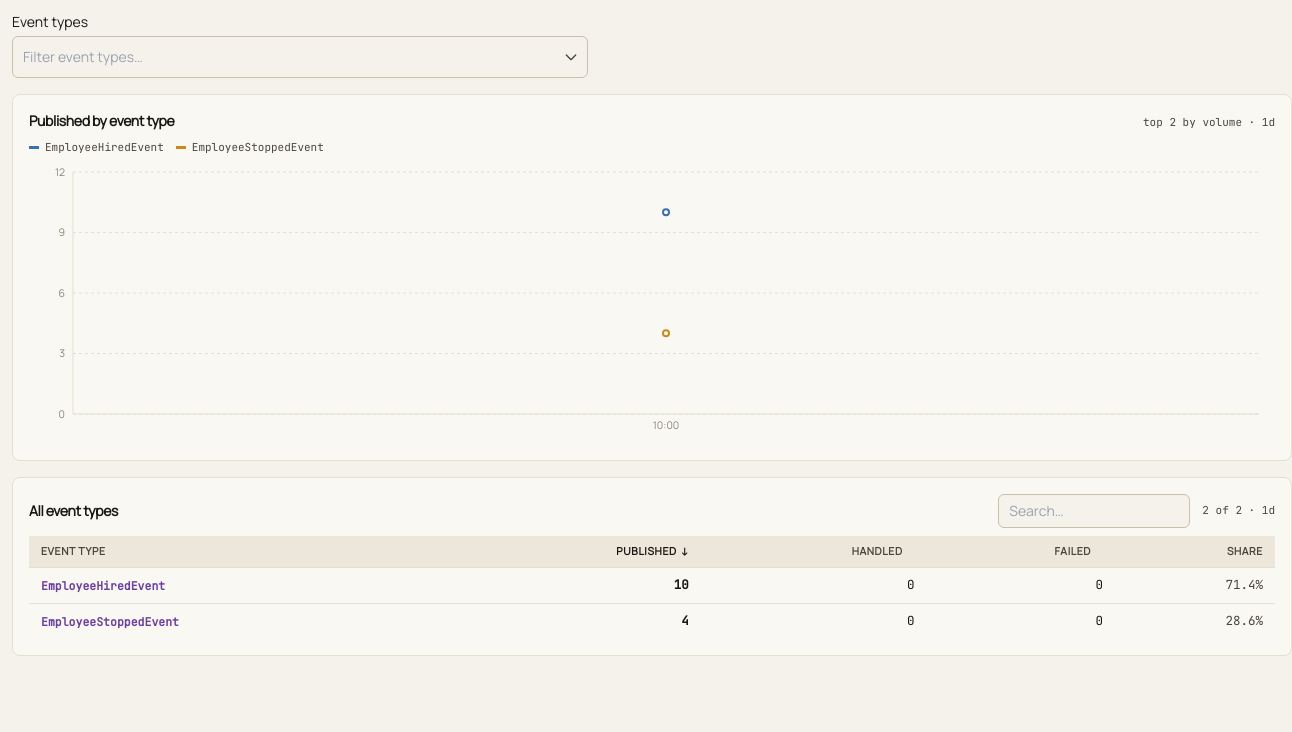
ByEventTypeTab › search narrows the table rows
Step 1. Type "Stopped" into the field named "search event types" → (1094, 510), box [998, 494, 1190, 528]
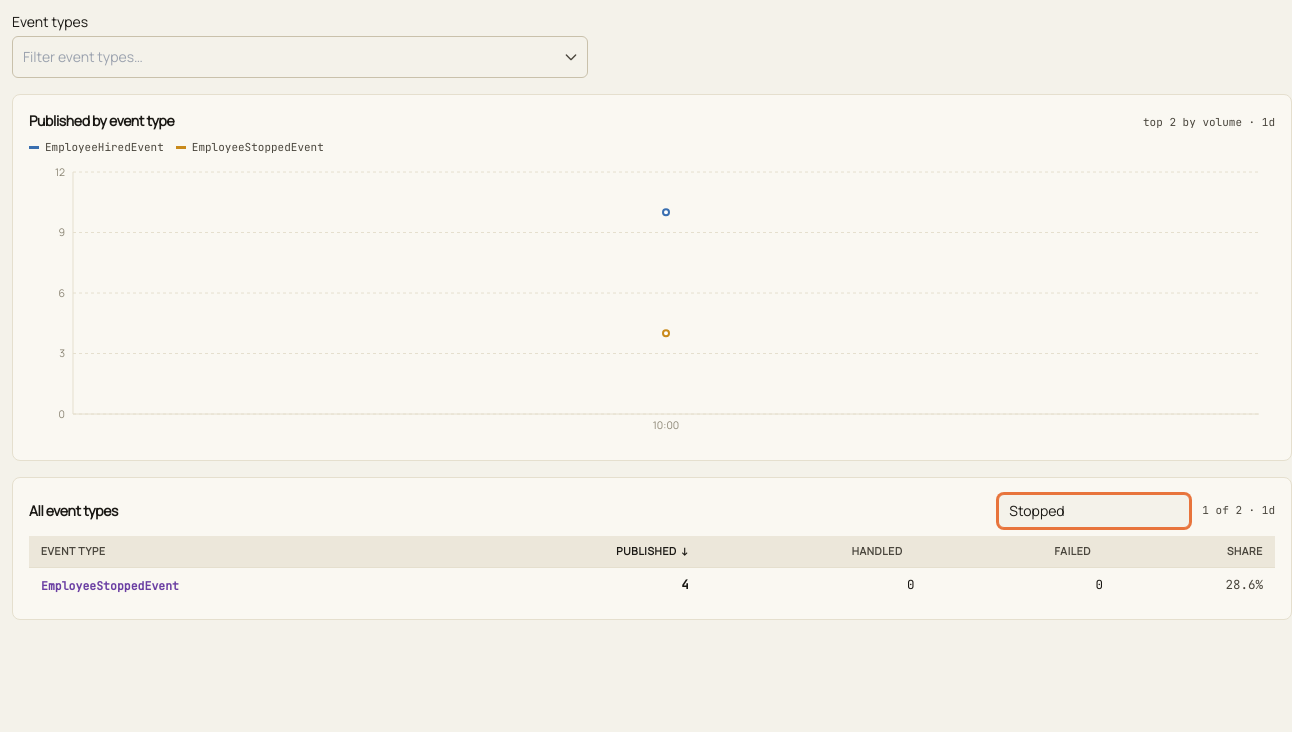
Result: the text "1 of 2 · 1d" is shown at [1202, 502, 1275, 519]
